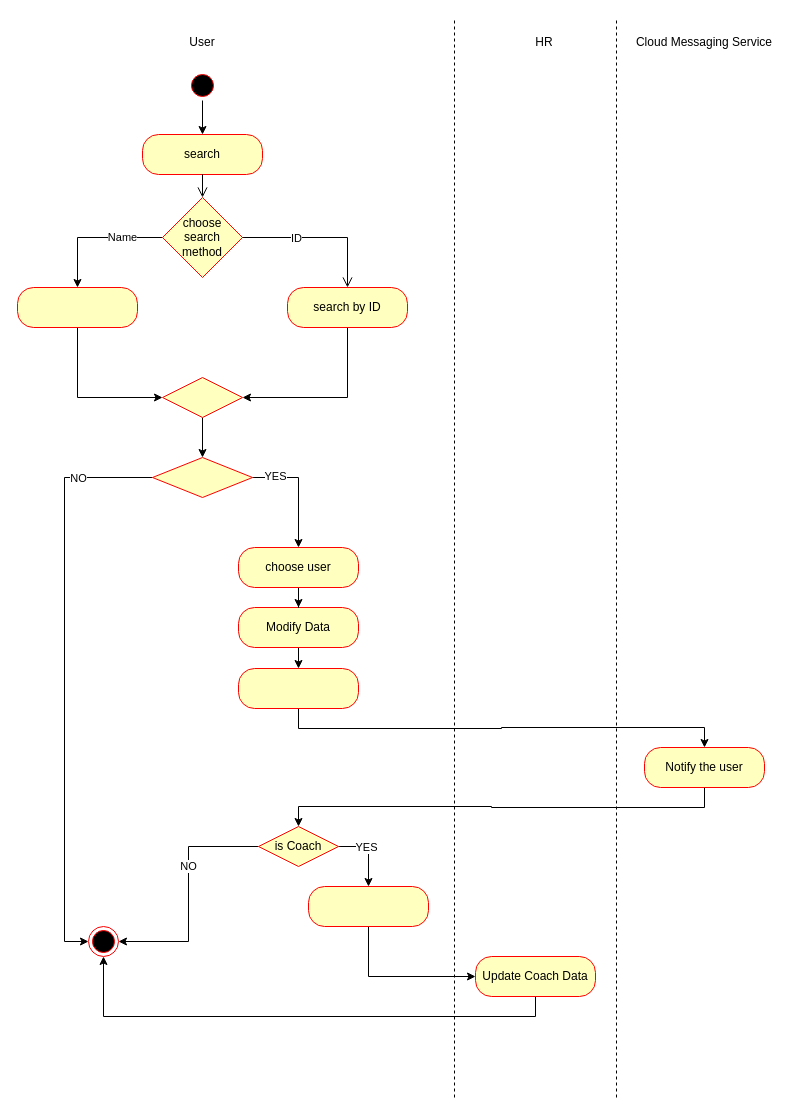
This 792x1116 diagram has some shape labels left out. The shapes that lost their labels are listed below. From the top down, each one's box as (x1, y1, x2, y2) in pixels, then its label:
(16, 286, 138, 328): search by name
(152, 456, 252, 498): is user found
(238, 668, 358, 708): Save Modification
(308, 886, 428, 926): Sent changes to HR
